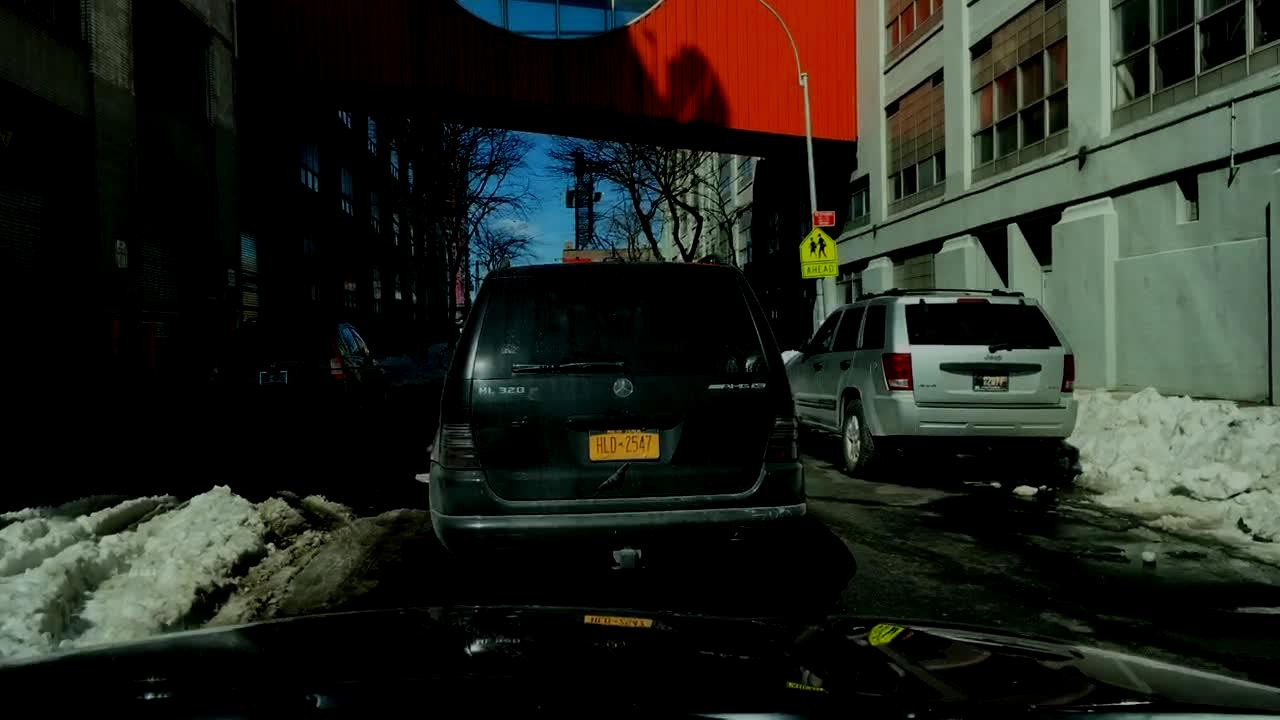Honda: (267, 357, 279, 375)
Mercedes: (606, 369, 637, 403)
jeep: (978, 348, 1007, 367)
